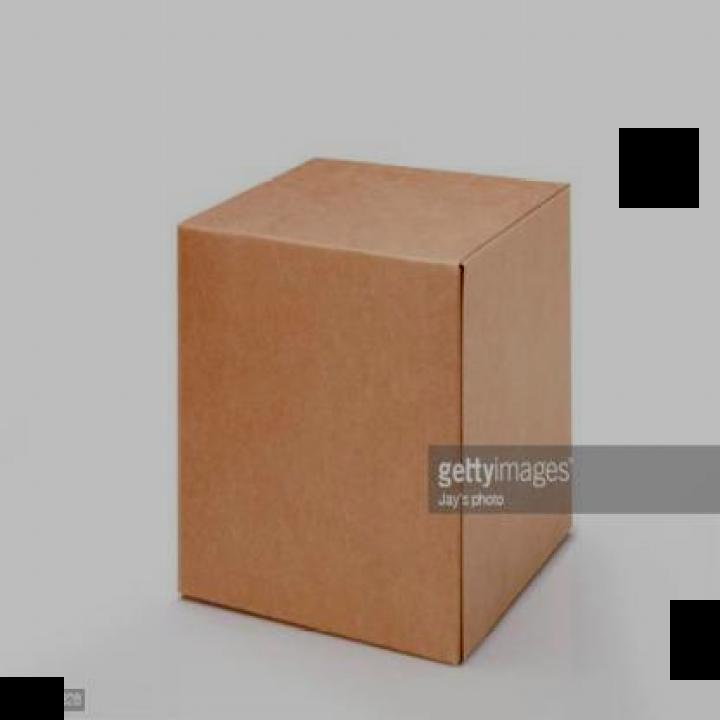box: (160, 129, 582, 695)
